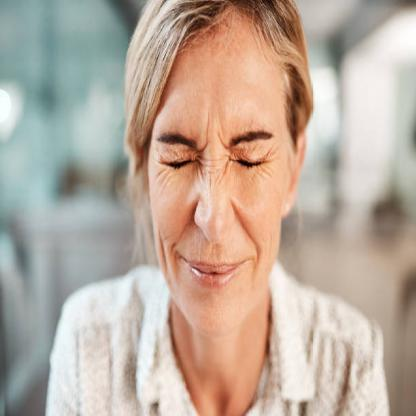pain: (155, 121, 280, 183)
